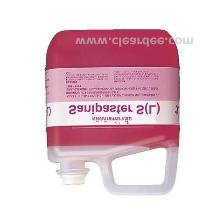cleaning_solution: (41, 26, 182, 197)
